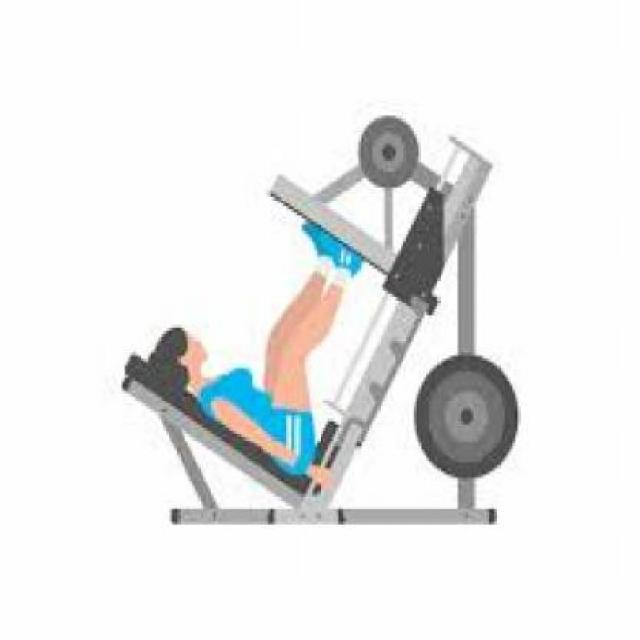leg press: (98, 75, 540, 568)
